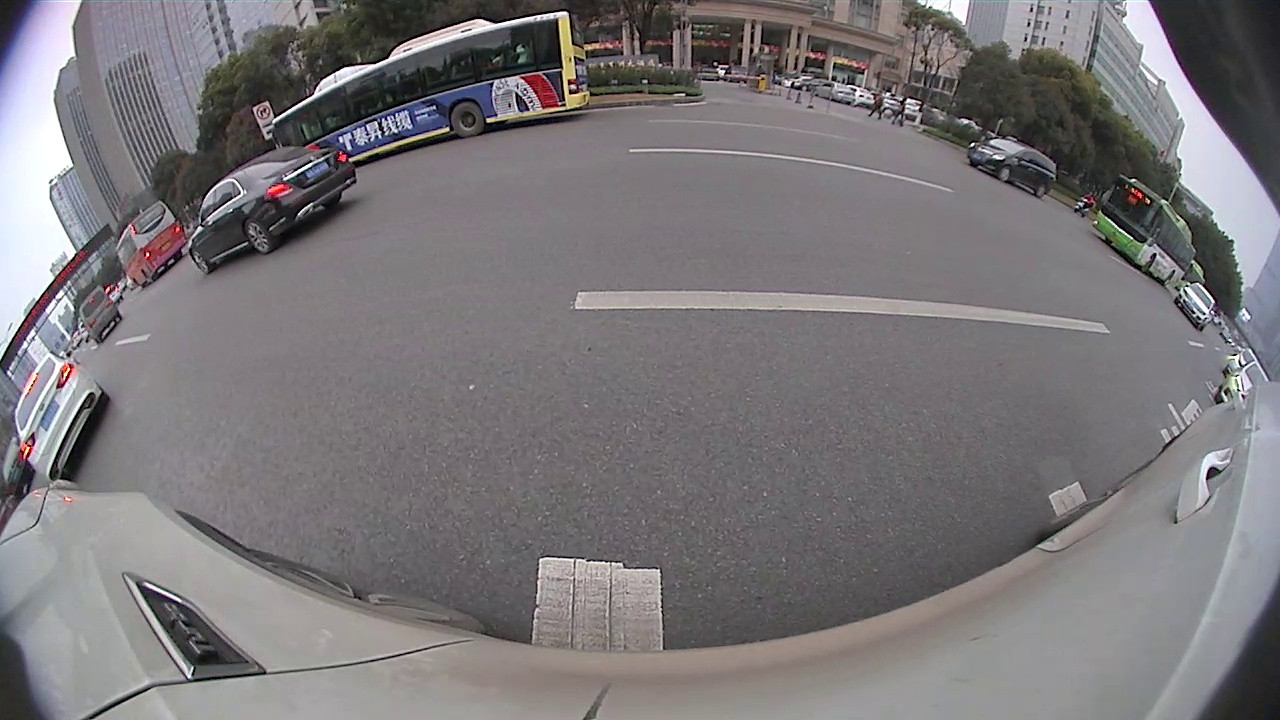bus: (270, 10, 592, 165), (1091, 172, 1198, 296), (113, 198, 190, 289)
car: (189, 144, 358, 276), (12, 348, 111, 483), (967, 135, 1060, 199), (1212, 359, 1274, 407), (77, 287, 124, 346), (0, 431, 38, 498), (1175, 281, 1217, 332), (1221, 347, 1259, 379)
front: (187, 247, 216, 276), (995, 167, 1011, 186)
person: (873, 92, 884, 120)
rear: (241, 214, 278, 260), (449, 99, 487, 138), (98, 390, 114, 408), (1034, 184, 1046, 201)
rider: (1073, 191, 1094, 216)
